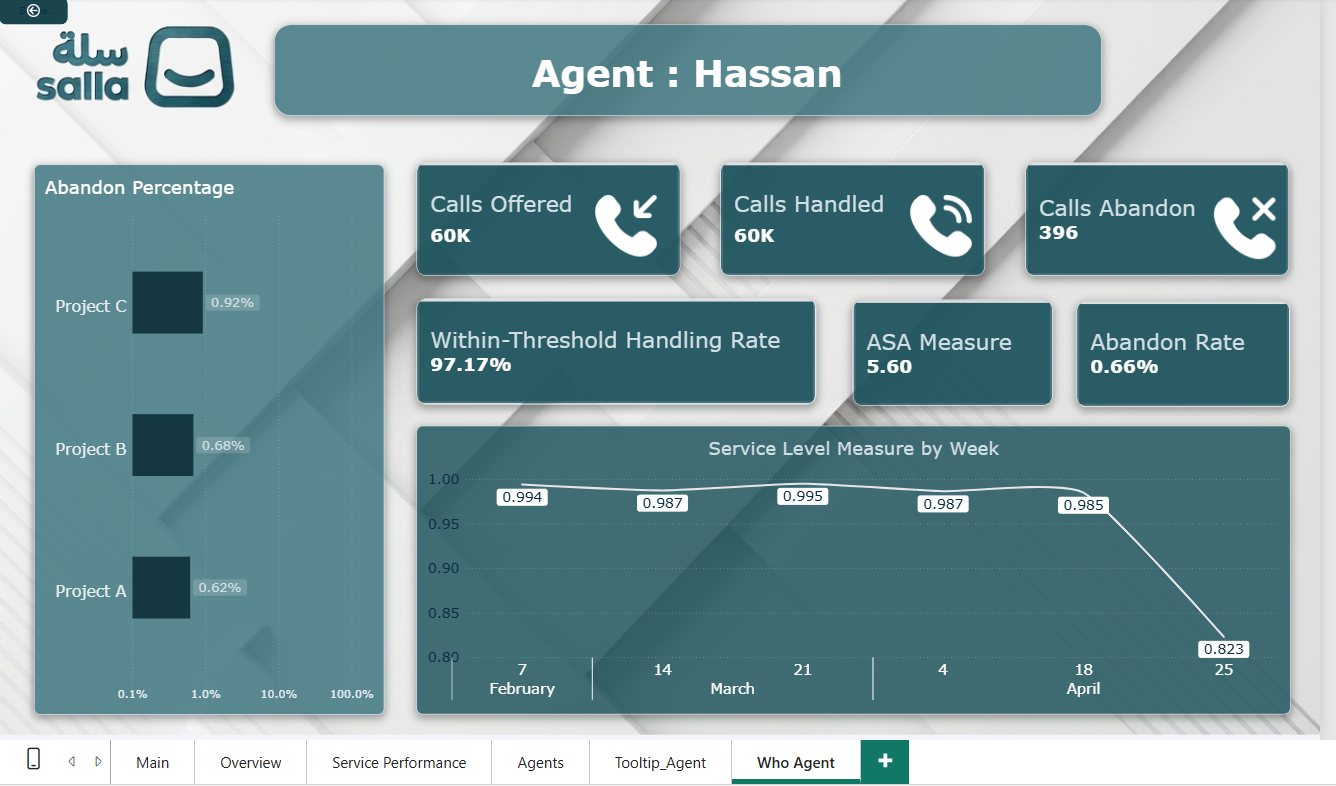

This screenshot's page, from the dashboard's own definition file:
{"tool":"powerbi","page":{"name":"Who Agent","canvas":[1920,1080],"ordinal":5},"visuals":[{"type":"actionButton","box":[0,0,100,40],"z":0},{"type":"clusteredBarChart","title":"Abandon Percentage","fields":{"Category":["Sallah Project.Project"],"Y":["Sallah Project.Abandon Percentage"]},"box":[50.8,243.3,508.4,798.9],"z":1000},{"type":"cardVisual","fields":{"Data":["Sallah Project.ASA Measure"]},"box":[1240.2,439.8,290.5,154.3],"z":2000},{"type":"cardVisual","fields":{"Data":["Sallah Project.Within-Threshold Handling Rate"]},"box":[606.5,438,580.9,154.5],"z":3000},{"type":"cardVisual","fields":{"Data":["Sallah Project.Abandon Rate"]},"box":[1565.2,441.6,310.5,154.3],"z":4000},{"type":"cardVisual","fields":{"Data":["Sum(Sallah Project.Calls Offered)"]},"box":[606.5,240,383.1,165.2],"z":5000},{"type":"cardVisual","fields":{"Data":["Sum(Sallah Project.Calls Handled)"]},"box":[1047.7,240,384.9,165.2],"z":6000},{"type":"cardVisual","fields":{"Data":["Sum(Sallah Project.Calls Abandon)"]},"box":[1490.7,240,383.1,165.2],"z":7000},{"type":"image","box":[844.6,271.7,132.8,120],"z":8000},{"type":"image","box":[1301.7,271.7,132.8,120],"z":9000},{"type":"image","box":[1743.3,276.9,132.8,120],"z":10000},{"type":"shape","box":[399.5,39.9,1202,132.5],"z":11000},{"type":"actionButton","box":[642.8,65.4,713.6,83.5],"z":12000},{"type":"lineChart","title":"Service Level Measure by Week","fields":{"Category":["Date.Month Start.Variation.Date Hierarchy.Month","Date.Month Start.Variation.Date Hierarchy.Day"],"Y":["Sallah Project.Service Level Measure"]},"box":[606.5,622.8,1269.2,419.4],"z":13000}]}

Visuals, with their boxes in screenshot pixels (x1, y1, x2, y2):
actionButton: 0/0/65/24
"Abandon Percentage" clusteredBarChart: 31/163/380/712
cardVisual - Sallah Project.ASA Measure: 848/298/1047/404
cardVisual - Sallah Project.Within-Threshold Handling Rate: 413/297/811/403
cardVisual - Sallah Project.Abandon Rate: 1071/300/1284/405
cardVisual - Sum(Sallah Project.Calls Offered): 413/161/676/275
cardVisual - Sum(Sallah Project.Calls Handled): 715/161/980/275
cardVisual - Sum(Sallah Project.Calls Abandon): 1019/161/1282/275
image: 576/183/667/265
image: 890/183/981/265
image: 1193/187/1284/269
shape: 271/24/1095/115
actionButton: 438/41/927/99
"Service Level Measure by Week" lineChart: 413/424/1284/712
